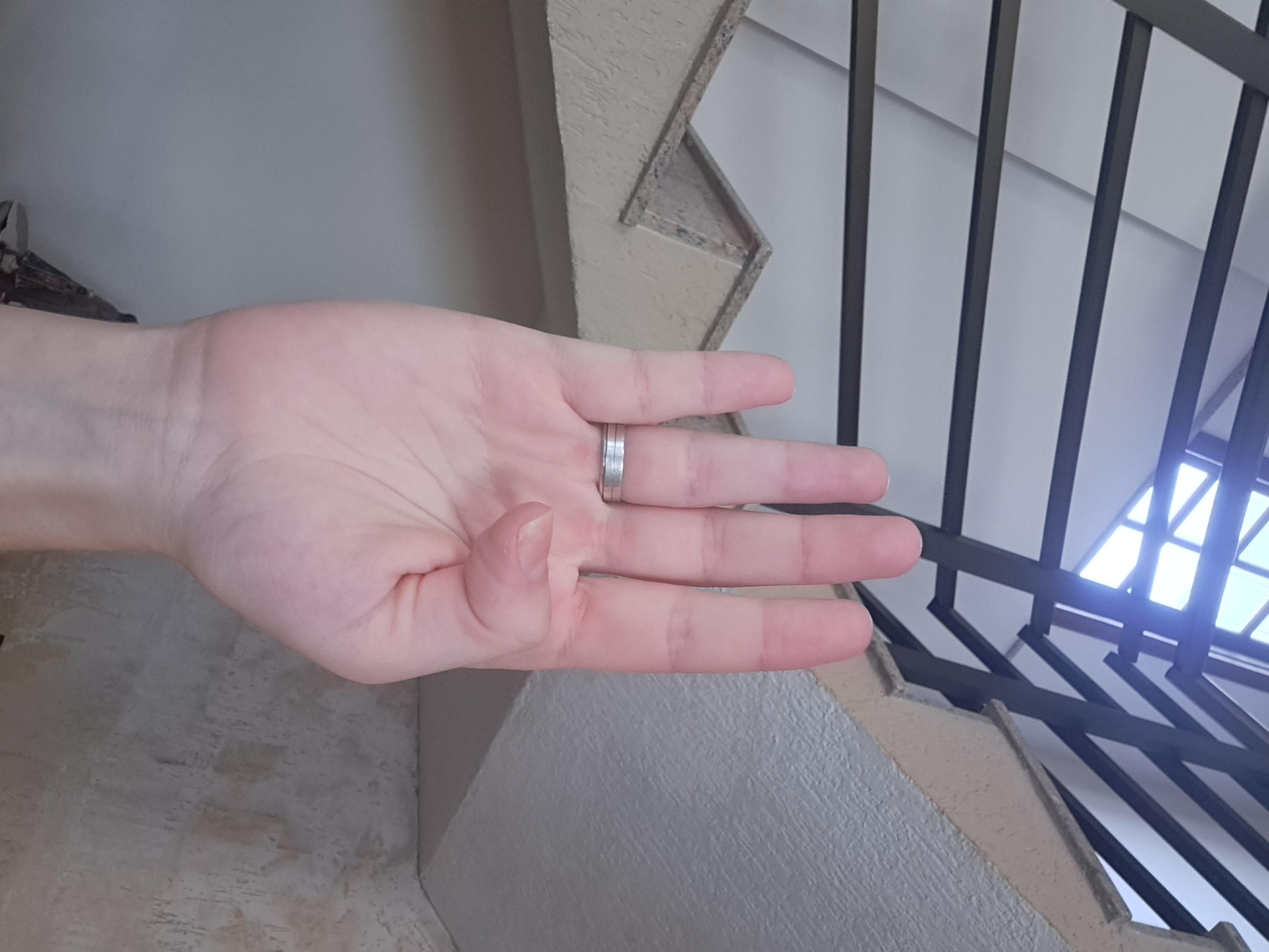B: (394, 254, 928, 811)
